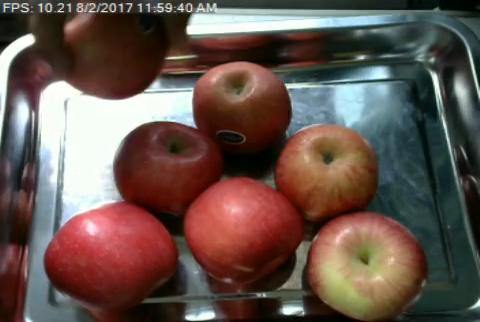apple: (43, 202, 177, 314), (307, 214, 426, 321), (184, 179, 300, 285), (114, 120, 220, 213), (278, 125, 377, 216), (190, 61, 292, 149)
